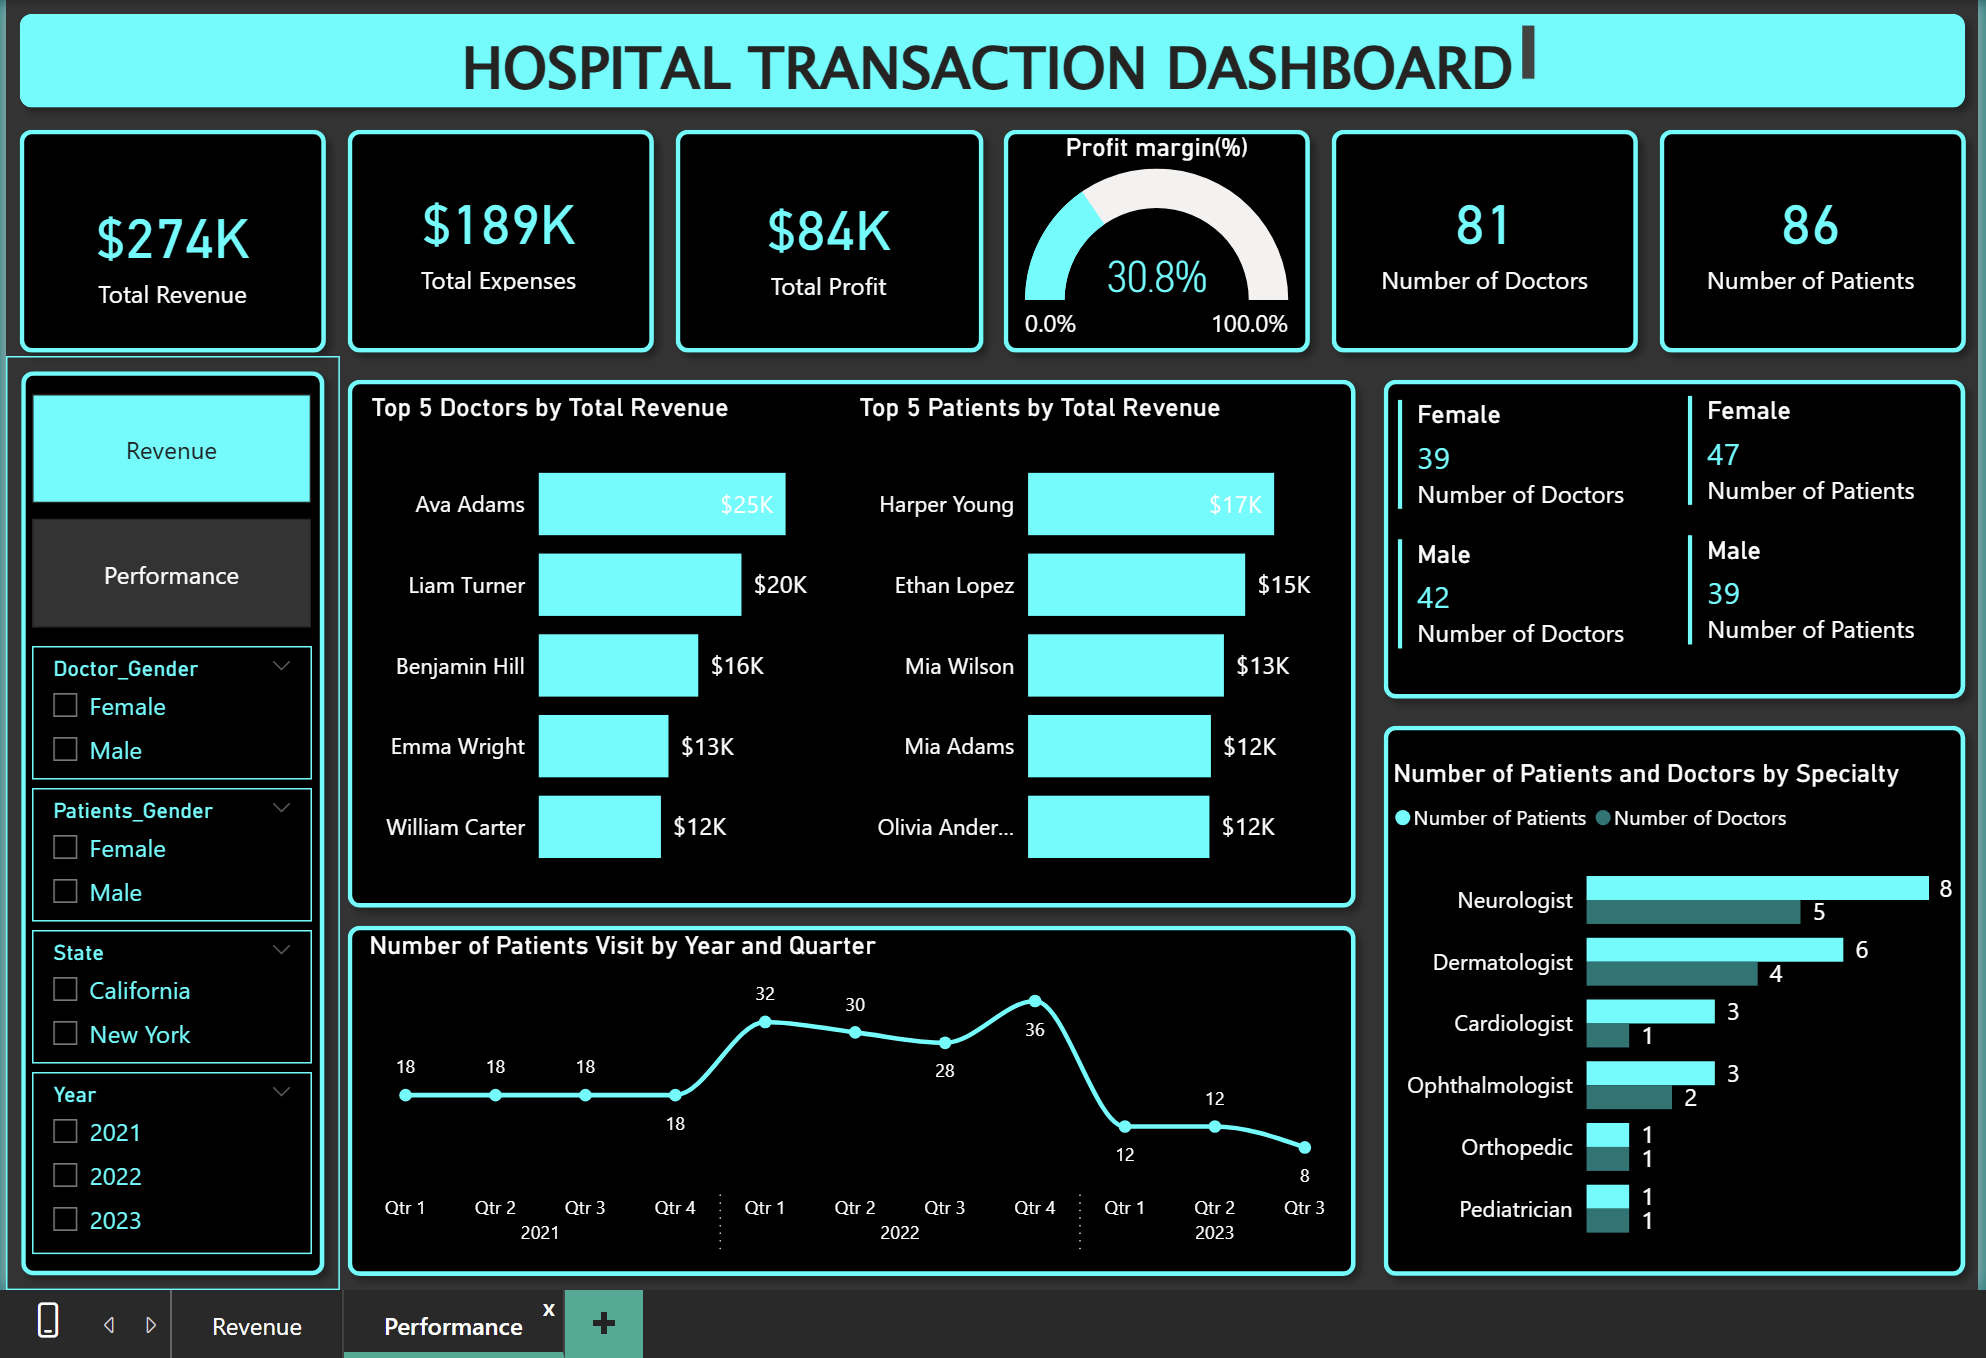

What the dashboard file says about the page in this screenshot:
{"tool":"powerbi","page":{"name":"Performance","canvas":[1300,850],"ordinal":1},"visuals":[{"type":"shape","box":[0,0,1299.9,79.8],"z":0},{"type":"shape","box":[0,76.7,219.8,164.8],"z":1000},{"type":"shape","box":[215.8,76.7,219.8,164.8],"z":2000},{"type":"shape","box":[431.6,76.7,220.8,164.8],"z":3000},{"type":"shape","box":[648.5,76.7,219.8,164.8],"z":4000},{"type":"shape","box":[864.3,76.7,219.8,164.8],"z":5000},{"type":"shape","box":[1080.2,76.7,219.8,164.8],"z":6000},{"type":"shape","box":[0,234.3,219.8,615.7],"z":7000},{"type":"shape","box":[216.6,241.5,682.1,365.9],"z":8000},{"type":"shape","box":[898.7,241.5,401.2,228],"z":9000},{"type":"shape","box":[216.6,601.2,682.1,248.8],"z":10000},{"type":"shape","box":[898.7,469.6,401.2,380.4],"z":11000},{"type":"card","fields":{"Values":["Calculated Measure.Total Revenue"]},"box":[11.4,115.1,195.9,100.5],"z":12000},{"type":"card","fields":{"Values":["Calculated Measure.Total Expenses"]},"box":[227,115.1,195.9,81.9],"z":13000},{"type":"card","fields":{"Values":["Calculated Measure.Total Profit"]},"box":[443.7,118.2,195.9,81.9],"z":14000},{"type":"gauge","fields":{"Y":["Calculated Measure.Profit margin(%)"]},"box":[660.3,87.1,195.9,147.2],"z":15000},{"type":"card","fields":{"Values":["Doctors Dim.DoctorID"]},"box":[875.9,115.1,195.9,81.9],"z":16000},{"type":"card","fields":{"Values":["Patients Dim.PatientID"]},"box":[1091.5,115.1,195.9,81.9],"z":17000},{"type":"lineChart","fields":{"Y":["Hospital Transactions(Fact Table).PatientID"],"Category":["Calendar Dim.Date.Variation.Date Hierarchy.Year","Calendar Dim.Date.Variation.Date Hierarchy.Quarter","Calendar Dim.Date.Variation.Date Hierarchy.Month"]},"box":[234.3,612.6,649.9,221.8],"z":18000},{"type":"clusteredBarChart","title":"Top 5 Doctors by Total Revenue","fields":{"Y":["Calculated Measure.Total Revenue"],"Category":["Doctors Dim.Doctors Name"]},"box":[235.3,258.1,324.5,334.8],"z":19000},{"type":"slicer","fields":{"Values":["Doctors Dim.Doctor_Gender"]},"box":[17.6,425,184.5,88.1],"z":20000},{"type":"slicer","fields":{"Values":["Calendar Dim.Date.Variation.Date Hierarchy.Year"]},"box":[17.6,707,184.5,120.2],"z":21000},{"type":"slicer","fields":{"Values":["Location Dim.State"]},"box":[17.6,613,184.5,88.1],"z":22000},{"type":"slicer","fields":{"Values":["Patients Dim.Patients_Gender"]},"box":[17.6,519,184.5,88.1],"z":23000},{"type":"clusteredBarChart","title":"Top 5 Patients by Total Revenue","fields":{"Y":["Calculated Measure.Total Revenue"],"Category":["Patients Dim.Patients Name"]},"box":[557.7,258.1,324.5,334.8],"z":24000},{"type":"clusteredBarChart","title":"Number of Patients and Doctors by Specialty","fields":{"Category":["Doctors Dim.Specialty"],"Y":["Hospital Transactions(Fact Table).PatientID","Hospital Transactions(Fact Table).DoctorID"]},"box":[909.1,499.6,378.4,334.8],"z":25000},{"type":"multiRowCard","fields":{"Values":["Doctors Dim.Doctor_Gender","Doctors Dim.Doctor_Gender"]},"box":[912.2,258.1,179.3,198],"z":26000},{"type":"multiRowCard","fields":{"Values":["Patients Dim.Patients_Gender","Patients Dim.Patients_Gender"]},"box":[1102.9,256,185.5,198],"z":27000},{"type":"textbox","box":[288.2,12.4,723.5,54.9],"z":28000},{"type":"pageNavigator","box":[17.6,260.2,184.5,154.5],"z":28001}]}

Visuals, with their boxes on the page's 1300x850 design canvas (x1, y1, x2, y2). These are canvas units, not pixel positions in the 1986x1358 screenshot, which may show the page scaled, cropped or inside an application window:
shape: locate(0, 0, 1300, 80)
shape: locate(0, 77, 220, 242)
shape: locate(216, 77, 436, 242)
shape: locate(432, 77, 652, 242)
shape: locate(648, 77, 868, 242)
shape: locate(864, 77, 1084, 242)
shape: locate(1080, 77, 1300, 242)
shape: locate(0, 234, 220, 850)
shape: locate(217, 242, 899, 607)
shape: locate(899, 242, 1300, 470)
shape: locate(217, 601, 899, 850)
shape: locate(899, 470, 1300, 850)
card - Calculated Measure.Total Revenue: locate(11, 115, 207, 216)
card - Calculated Measure.Total Expenses: locate(227, 115, 423, 197)
card - Calculated Measure.Total Profit: locate(444, 118, 640, 200)
gauge - Calculated Measure.Profit margin(%): locate(660, 87, 856, 234)
card - Doctors Dim.DoctorID: locate(876, 115, 1072, 197)
card - Patients Dim.PatientID: locate(1092, 115, 1287, 197)
lineChart - Hospital Transactions(Fact Table).PatientID x Calendar Dim.Date.Variation.Date Hierarchy.Year: locate(234, 613, 884, 834)
"Top 5 Doctors by Total Revenue" clusteredBarChart: locate(235, 258, 560, 593)
slicer - Doctors Dim.Doctor_Gender: locate(18, 425, 202, 513)
slicer - Calendar Dim.Date.Variation.Date Hierarchy.Year: locate(18, 707, 202, 827)
slicer - Location Dim.State: locate(18, 613, 202, 701)
slicer - Patients Dim.Patients_Gender: locate(18, 519, 202, 607)
"Top 5 Patients by Total Revenue" clusteredBarChart: locate(558, 258, 882, 593)
"Number of Patients and Doctors by Specialty" clusteredBarChart: locate(909, 500, 1288, 834)
multiRowCard - Doctors Dim.Doctor_Gender x Doctors Dim.Doctor_Gender: locate(912, 258, 1092, 456)
multiRowCard - Patients Dim.Patients_Gender x Patients Dim.Patients_Gender: locate(1103, 256, 1288, 454)
textbox: locate(288, 12, 1012, 67)
pageNavigator: locate(18, 260, 202, 415)
